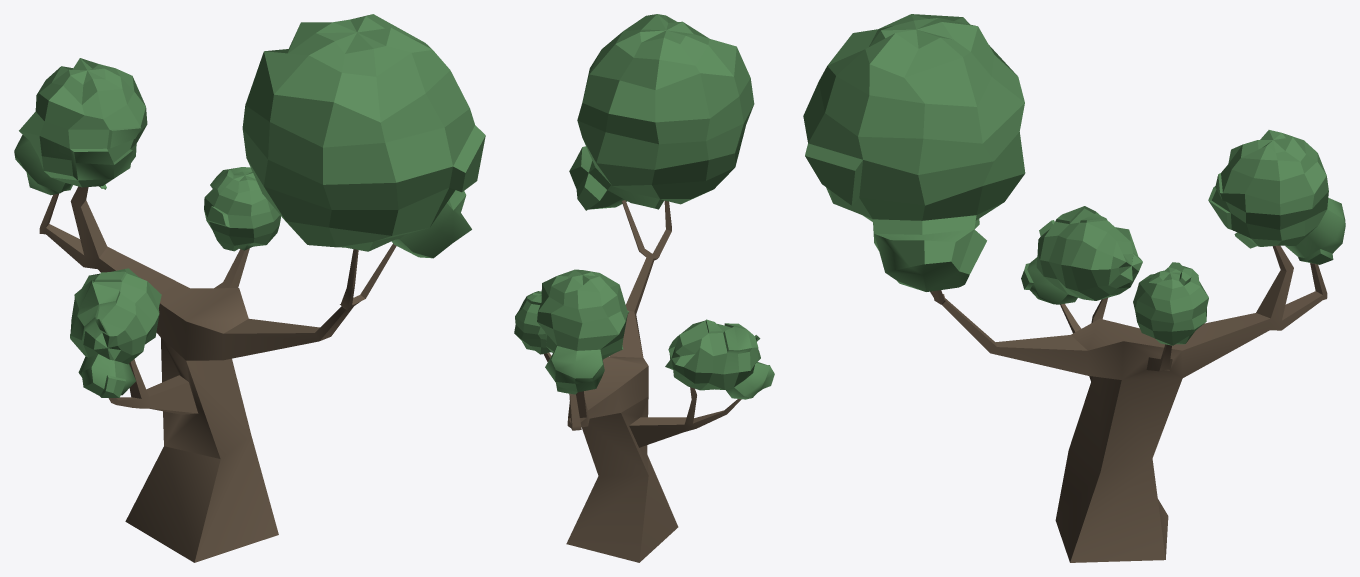
File: tree_oak_fancy_01.fbx
3 renders of one model, left to right at view 1: azimuth 30°, elevation 25°; view 2: azimuth 150°, elevation 25°; view 3: azimuth 270°, elevation 25°, orthographic. The views are drawn at different scales.
Visible parts, largest first — view 1: tree_oak_fancy_01; view 2: tree_oak_fancy_01; view 3: tree_oak_fancy_01.
Boxes of the visible parts, x1,y1,x2,y2 form: tree_oak_fancy_01: (14, 14, 485, 562); tree_oak_fancy_01: (514, 14, 774, 562); tree_oak_fancy_01: (803, 14, 1345, 562).
Bounding box in the file's own units: 183 × 314 × 287.
